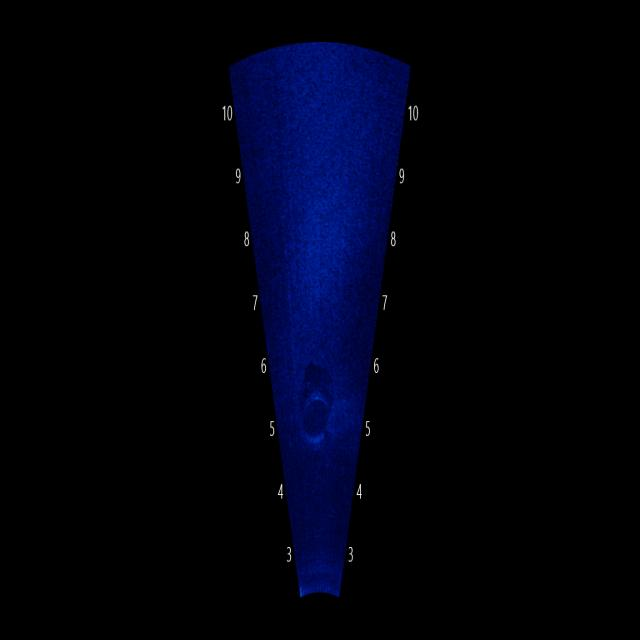circle: (293, 380, 351, 472)
